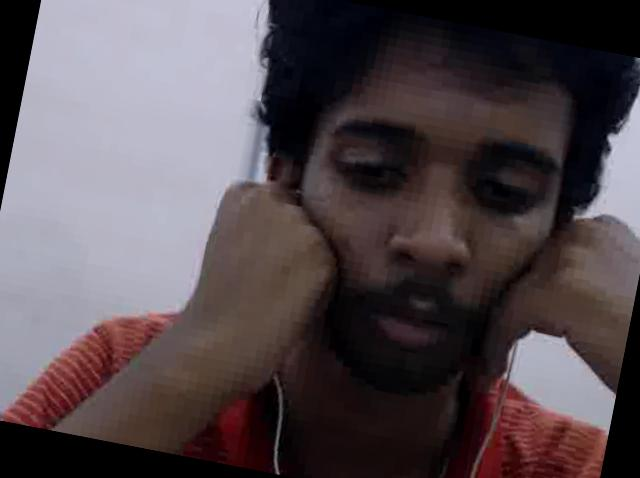bosan: (270, 16, 600, 402)
